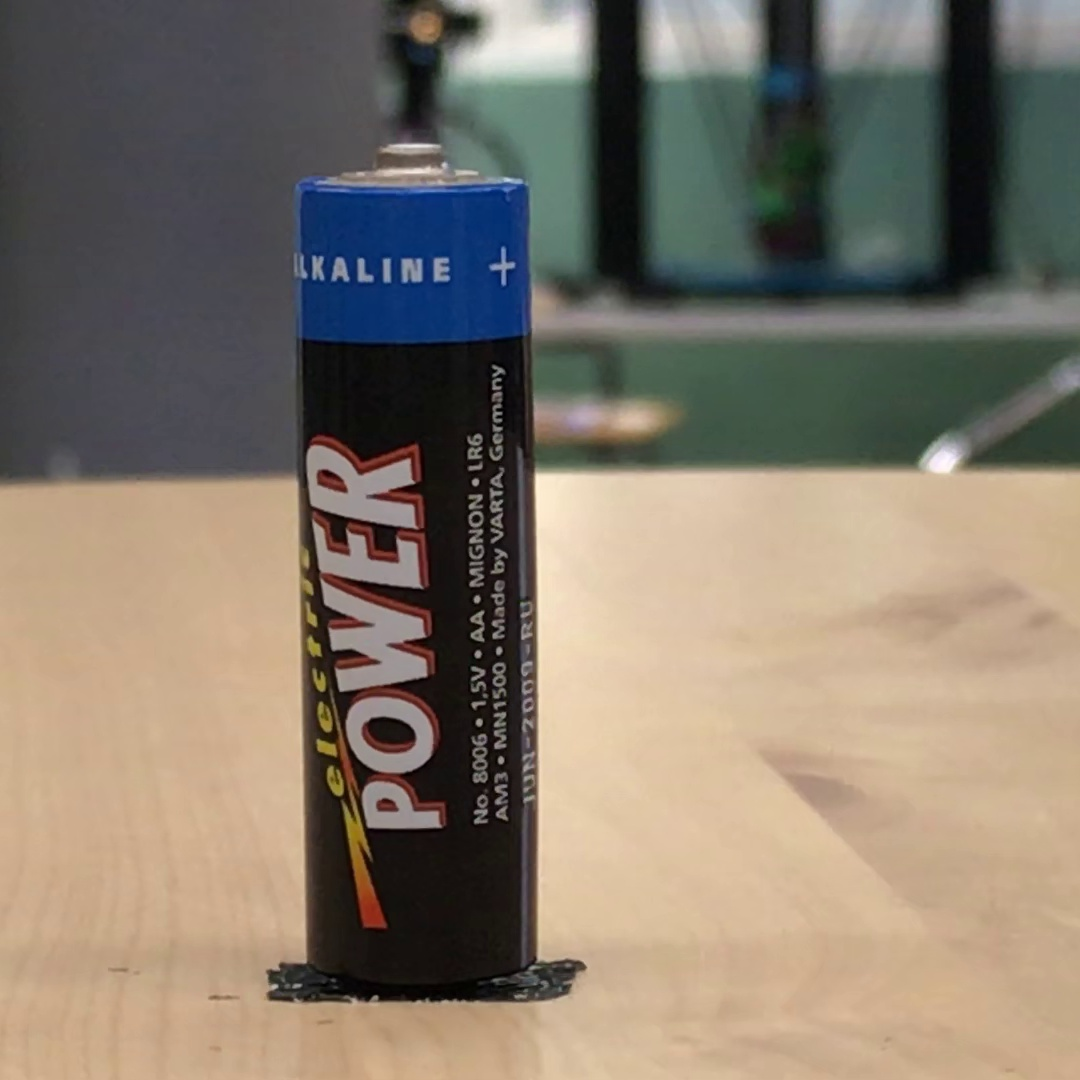keyword: (462, 657, 495, 718), (458, 424, 492, 480)
